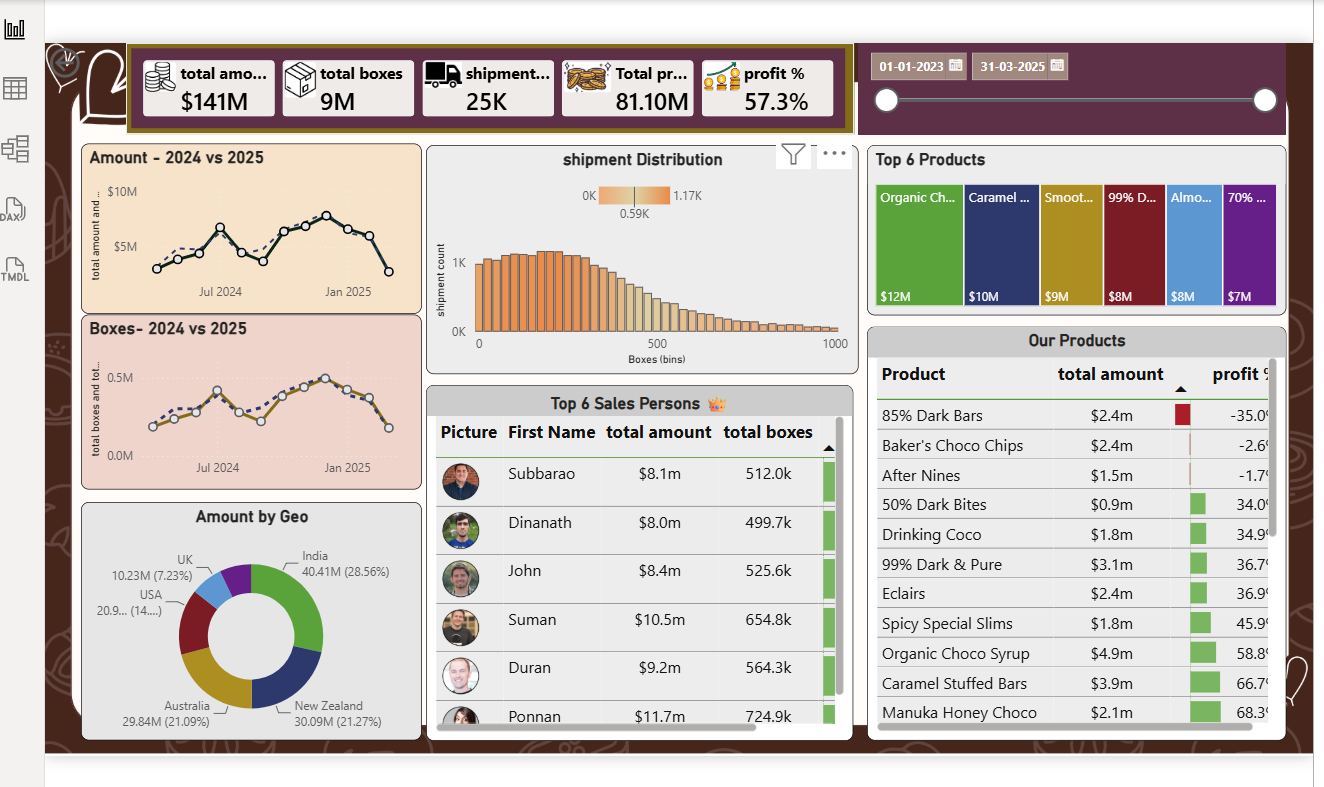

Layout of this report page (visuals, bound fields, positions):
{"tool":"powerbi","page":{"name":"BI report","canvas":[1280,720],"ordinal":7},"visuals":[{"type":"lineChart","title":"Amount - 2024 vs 2025","fields":{"Y":["shipments.total amount","shipments.total amount(last yr)","shipments.total amount(last yr)"],"Category":["calendar.Start of Month"]},"box":[36.5,101.4,344.1,172.1],"z":0},{"type":"lineChart","title":"Boxes- 2024 vs 2025","fields":{"Y":["shipments.total boxes","shipments.total boxes(last yr)"],"Category":["calendar.Start of Month"]},"box":[36.5,274.4,344.1,176.8],"z":1000},{"type":"donutChart","title":"Amount by Geo","fields":{"Category":["locations.Geo"],"Y":["Sum(shipments.Amount)"]},"box":[36.5,463.6,344.1,240.9],"z":2000},{"type":"clusteredColumnChart","title":"shipment Distribution","fields":{"Category":["shipments.Boxes (bins)"],"Y":["shipments.shipment count"]},"box":[383.9,102.7,436.4,231.5],"z":3000},{"type":"tableEx","title":"Top 6 Sales Persons 👑","fields":{"Values":["people.Picture","people.First Name","shipments.total amount","shipments.total boxes","shipments.profit %"]},"box":[385.2,344.7,431.2,359.6],"z":4000},{"type":"actionButton","box":[0,0,100,40],"z":5000},{"type":"treemap","title":"Top 6 Products ","fields":{"Values":["shipments.total amount"],"Group":["products.Product"]},"box":[830,102.7,423.1,171.7],"z":6000},{"type":"tableEx","title":"Our Products","fields":{"Values":["products.Product","shipments.total amount","shipments.profit %"]},"box":[830,286.6,423.1,417.7],"z":7000},{"type":"cardVisual","fields":{"Data":["shipments.total amount","shipments.total boxes","shipments.shipment count","shipments.Total profit","shipments.profit %"]},"box":[81.1,0,735.3,91.9],"z":8000},{"type":"slicer","fields":{"Values":["calendar.cal_date"]},"box":[821.2,0,431.7,92.3],"z":8001}]}

Visuals, with their boxes on the page's 1280x720 design canvas (x1, y1, x2, y2). These are canvas units, not pixel positions in the 1324x787 screenshot, which may show the page scaled, cropped or inside an application window:
"Amount - 2024 vs 2025" lineChart: 36,101,381,274
"Boxes- 2024 vs 2025" lineChart: 36,274,381,451
"Amount by Geo" donutChart: 36,464,381,704
"shipment Distribution" clusteredColumnChart: 384,103,820,334
"Top 6 Sales Persons 👑" tableEx: 385,345,816,704
actionButton: 0,0,100,40
"Top 6 Products " treemap: 830,103,1253,274
"Our Products" tableEx: 830,287,1253,704
cardVisual - shipments.total amount x shipments.total boxes: 81,0,816,92
slicer - calendar.cal_date: 821,0,1253,92
